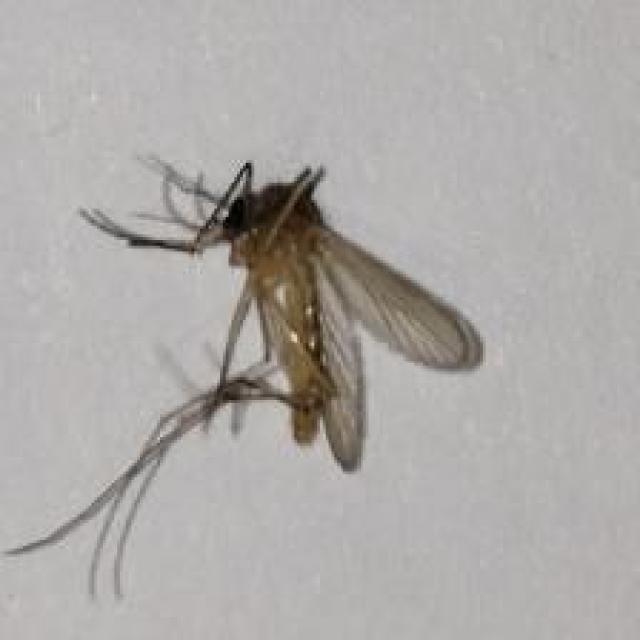Culex: (2, 153, 484, 601)
